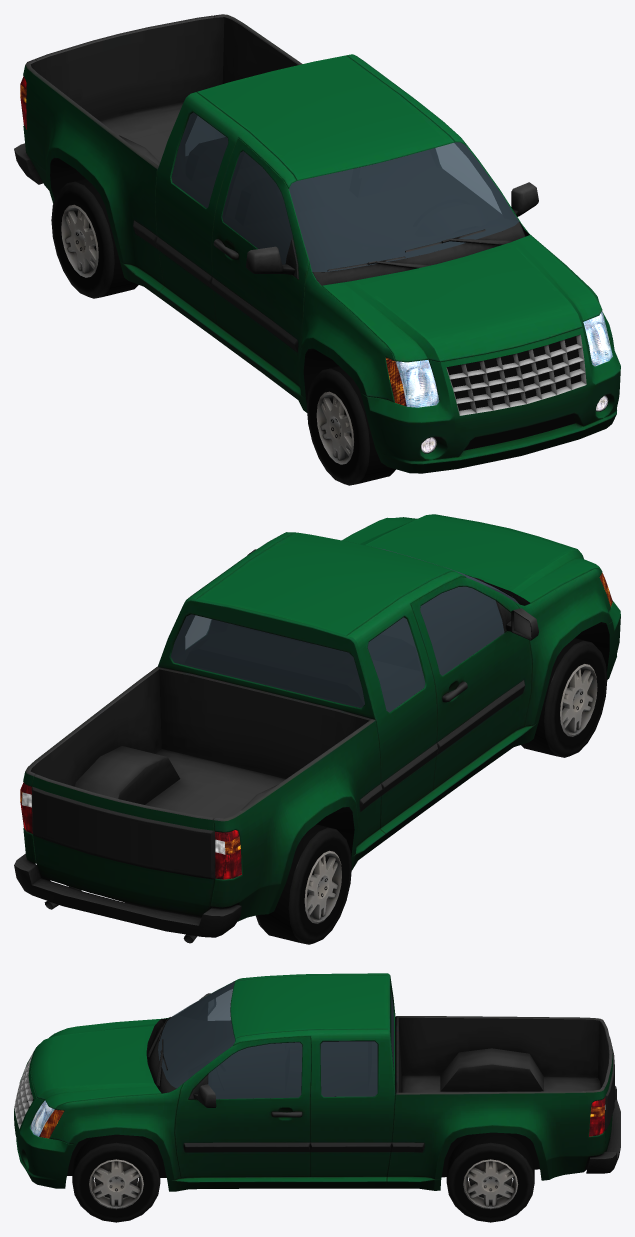
Rendered from road-pickup.glb.
The picture shows the model from 3 angles, top to bottom: view 1: azimuth 30°, elevation 25°; view 2: azimuth 150°, elevation 25°; view 3: azimuth 270°, elevation 25°; orthographic projection. The views are drawn at different scales.
Parts seen in each view (by area): view 1: Body, Wheel_FR, Wheel_RR; view 2: Body, Wheel_RR, Wheel_FR; view 3: Body, Wheel_RL, Wheel_FL.
Boxes of the visible parts, left/top/right/bottom form: Body: left=14, top=14, right=620, bottom=473; Wheel_FR: left=306, top=366, right=395, bottom=485; Wheel_RR: left=51, top=178, right=138, bottom=298; Body: left=14, top=514, right=620, bottom=943; Wheel_RR: left=256, top=824, right=351, bottom=944; Wheel_FR: left=521, top=638, right=607, bottom=757; Body: left=14, top=973, right=620, bottom=1191; Wheel_RL: left=446, top=1132, right=534, bottom=1222; Wheel_FL: left=72, top=1134, right=160, bottom=1222.
Size of the model in its own units: 2.12 by 1.74 by 5.3.
Materials: 5 (4 with a texture image).
